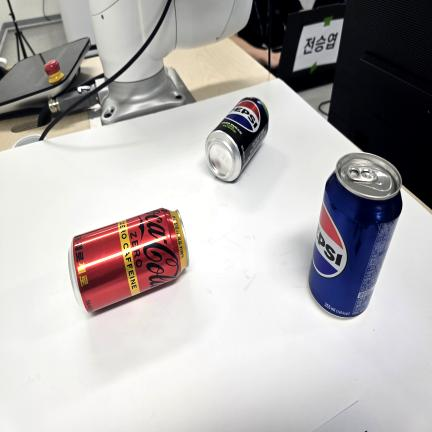can_coke_decaf: (66, 207, 190, 314)
can_pepsi: (307, 154, 404, 320)
can_pepsi_zero: (205, 96, 270, 184)
